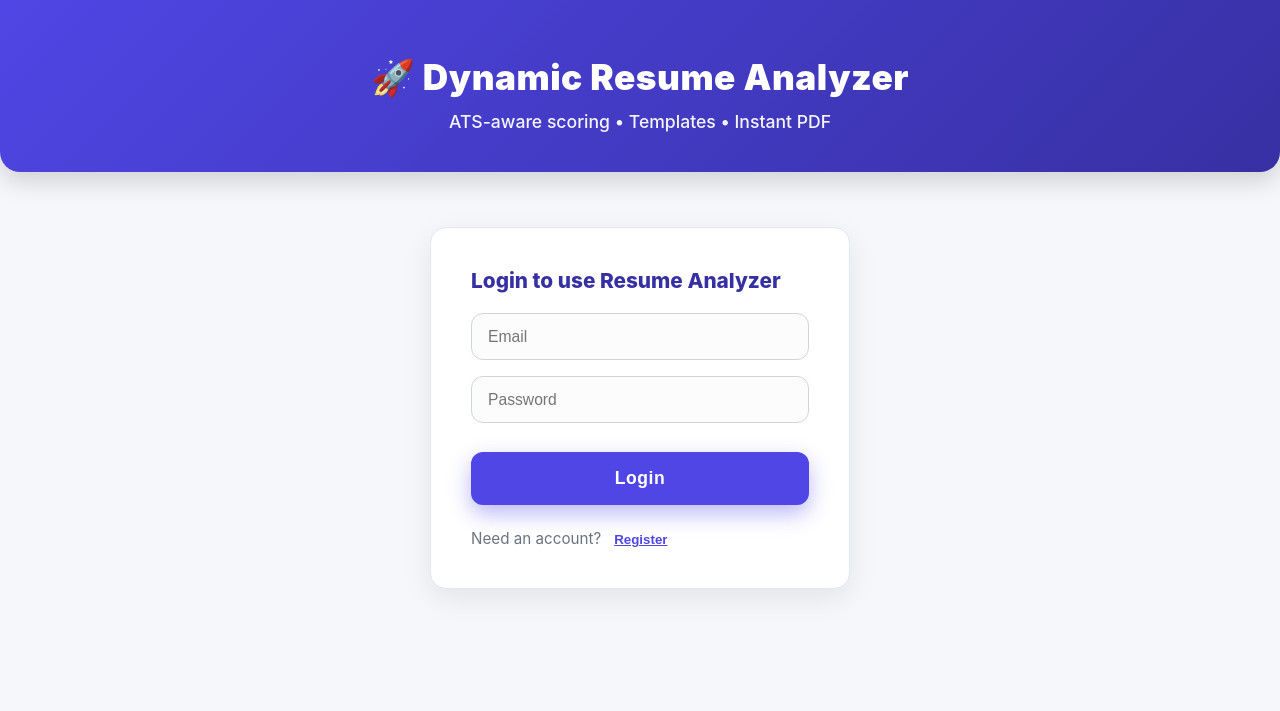
E2E: Authentication Flow › E2E_AUTH_001: Registration Tests › Should validate username minimum length (3 characters)
The image size is (1280, 711).
Expected: the header with class "hero" is shown, [0, 0, 1279, 172]
Expected: the heading with class "title-small" shows "Dynamic Resume Analyzer", [371, 56, 909, 98]
Click the button "Register" at (641, 540), box [614, 532, 667, 547]
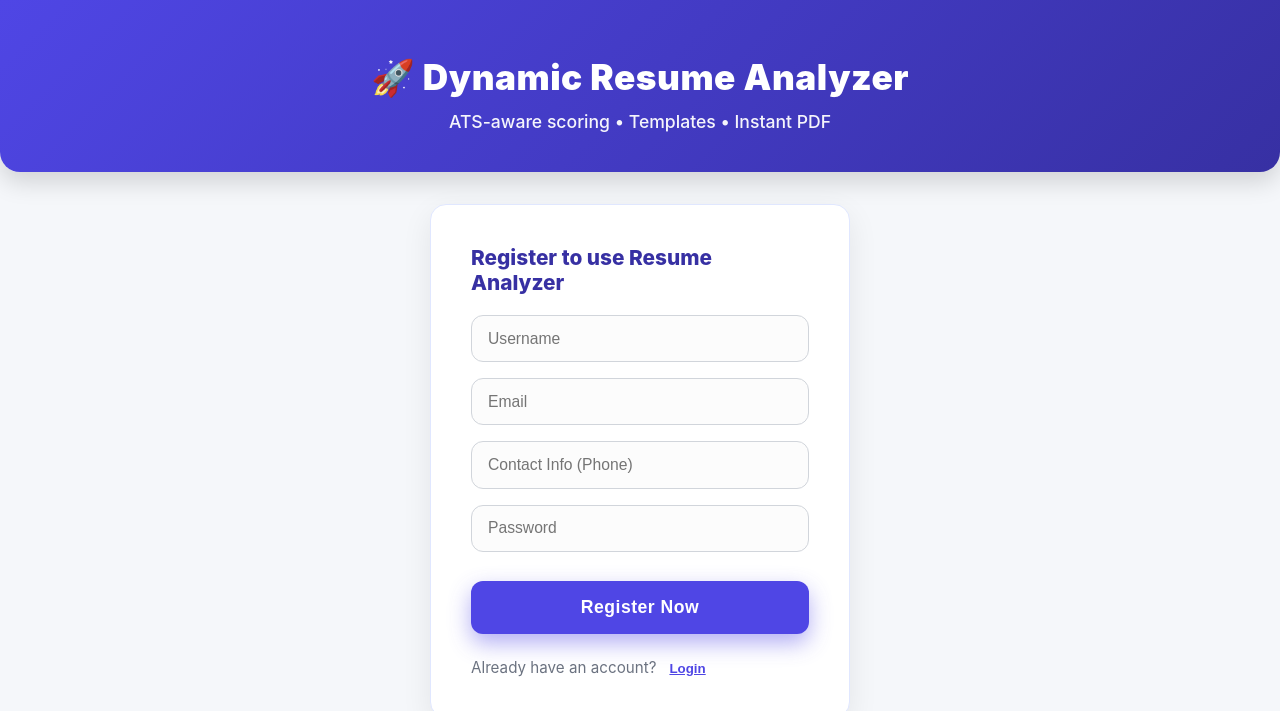
Type "ab" into the field with placeholder "Username" at (640, 339), box [471, 315, 809, 362]
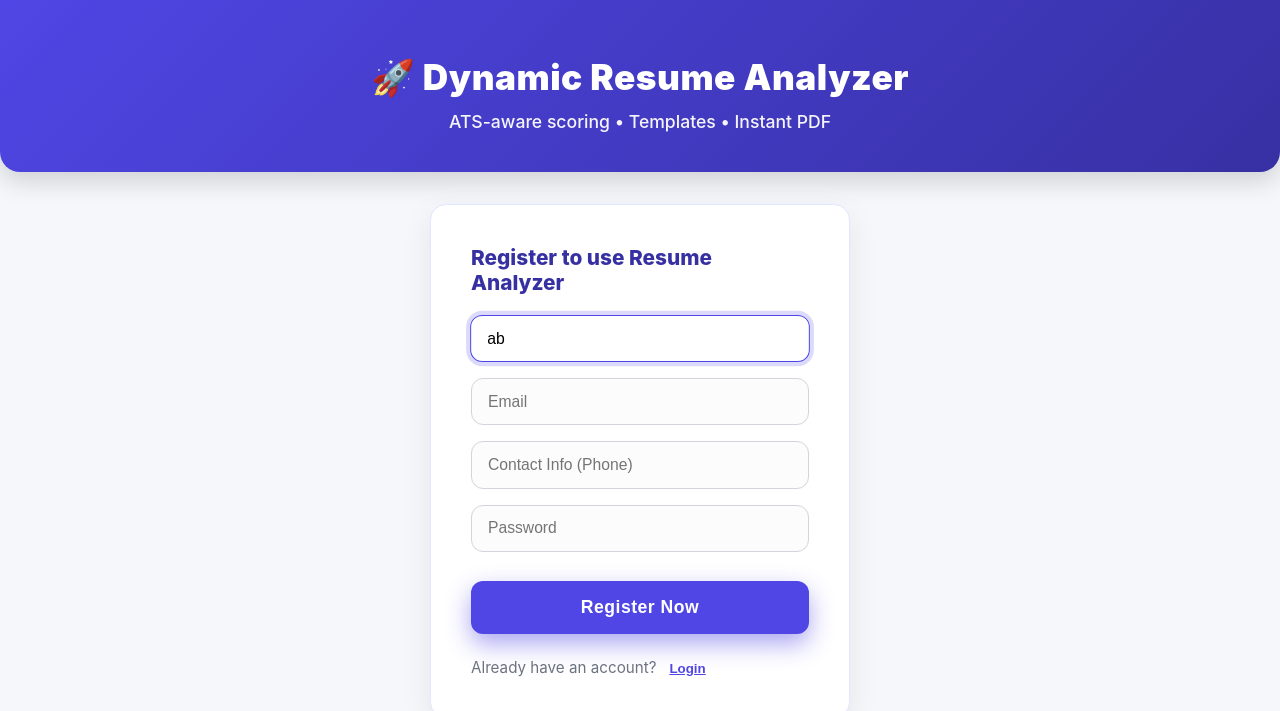
Type "test@example.com" into the field with placeholder "Email" at (640, 402), box [471, 378, 809, 425]
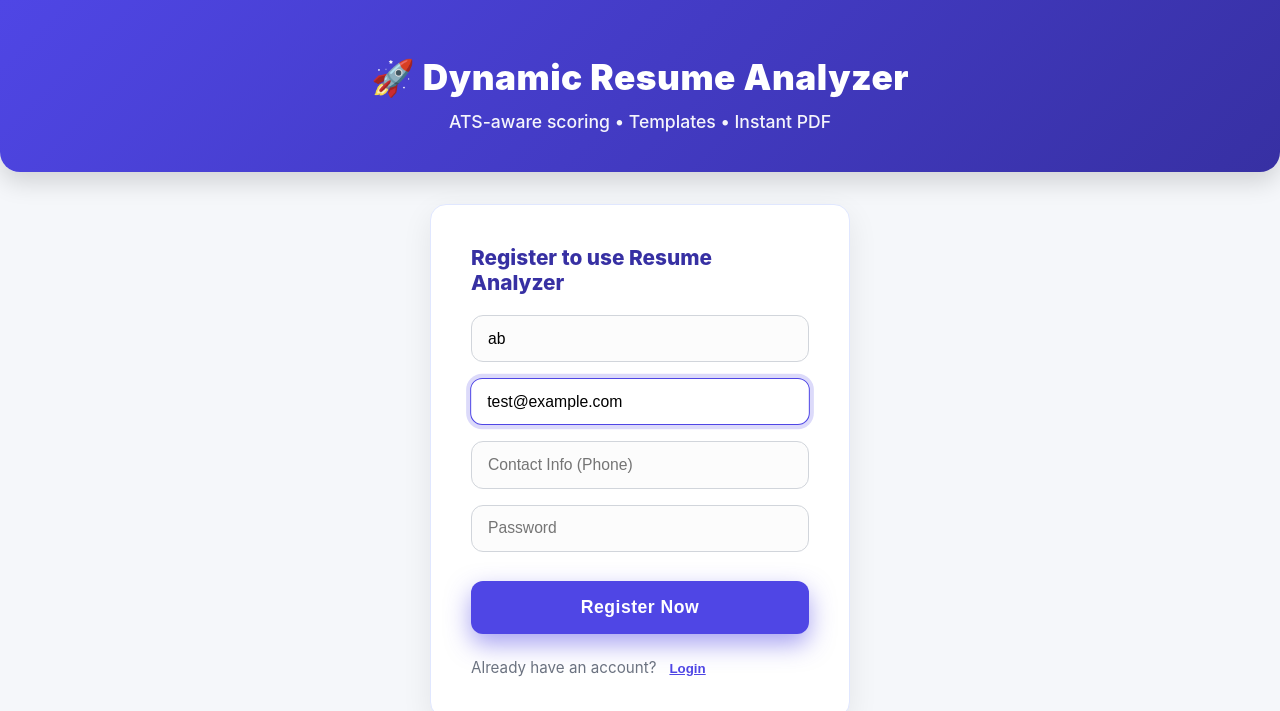
Type "5551234567" into the field with placeholder "Contact Info (Phone)" at (640, 465), box [471, 441, 809, 488]
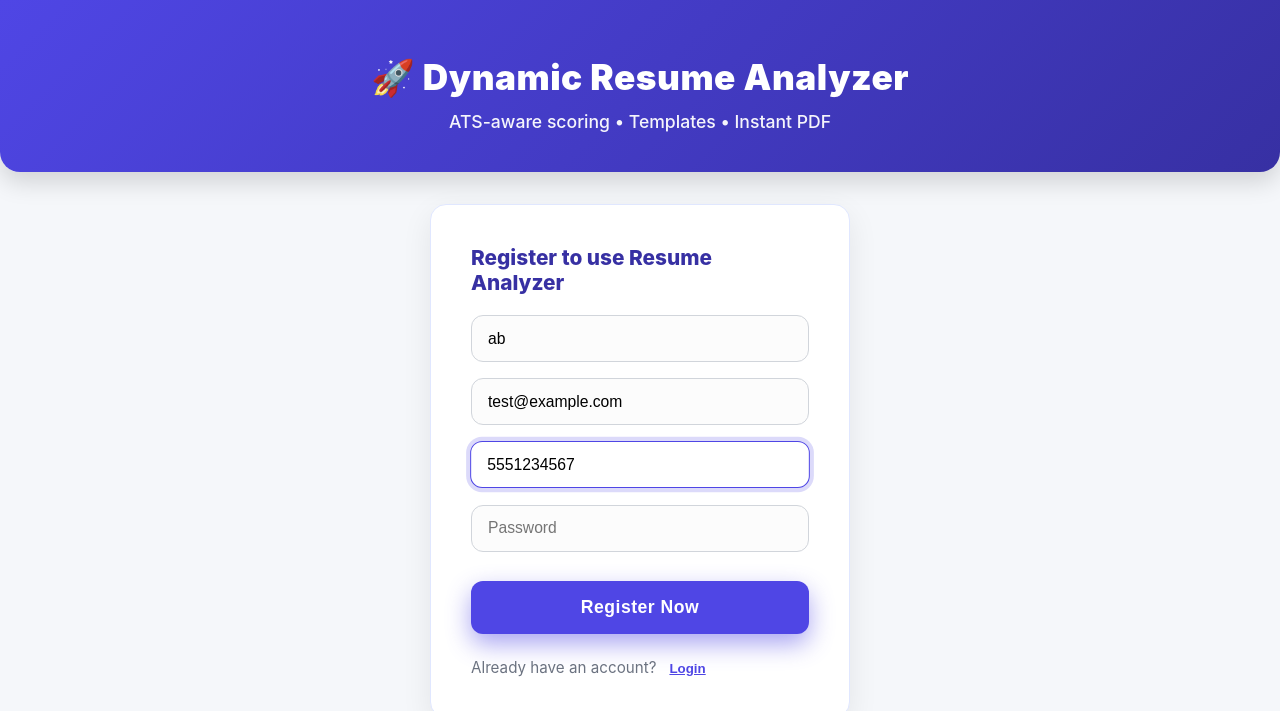
Type "ValidPassword123!" into the password field with placeholder "Password" at (640, 529), box [471, 505, 809, 552]
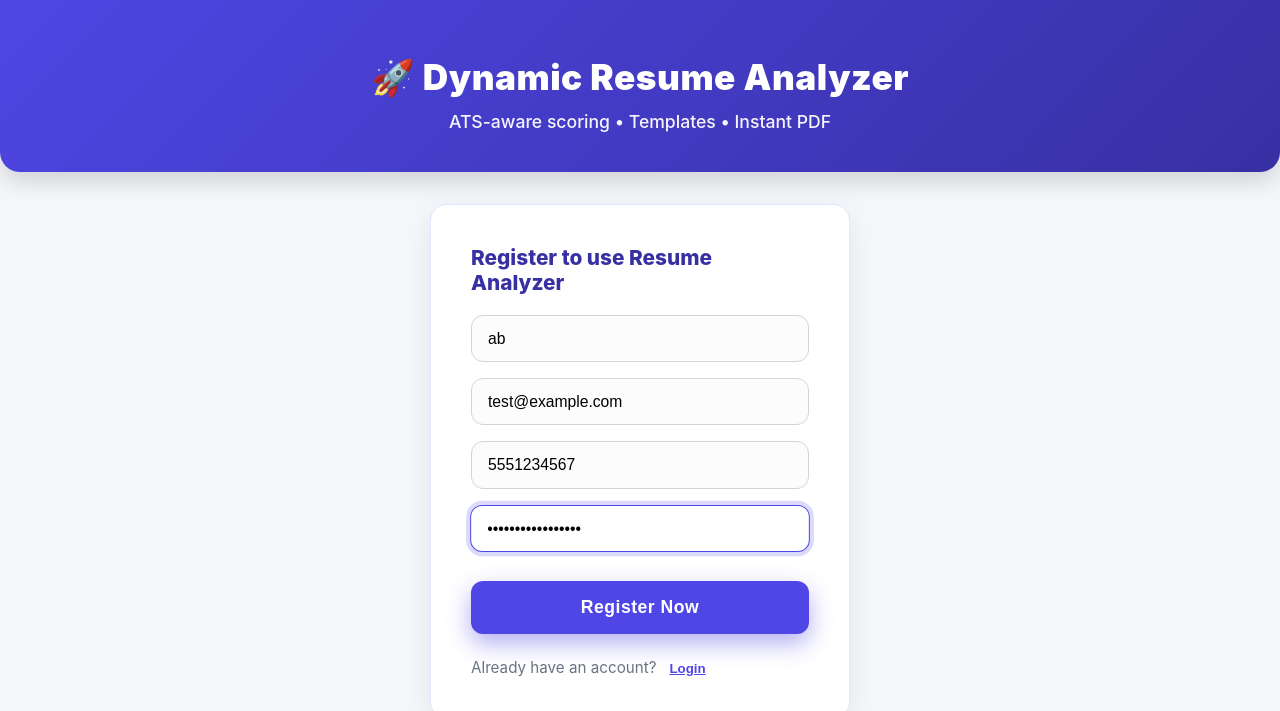
Click the submit button at (640, 608), box [471, 581, 809, 634]
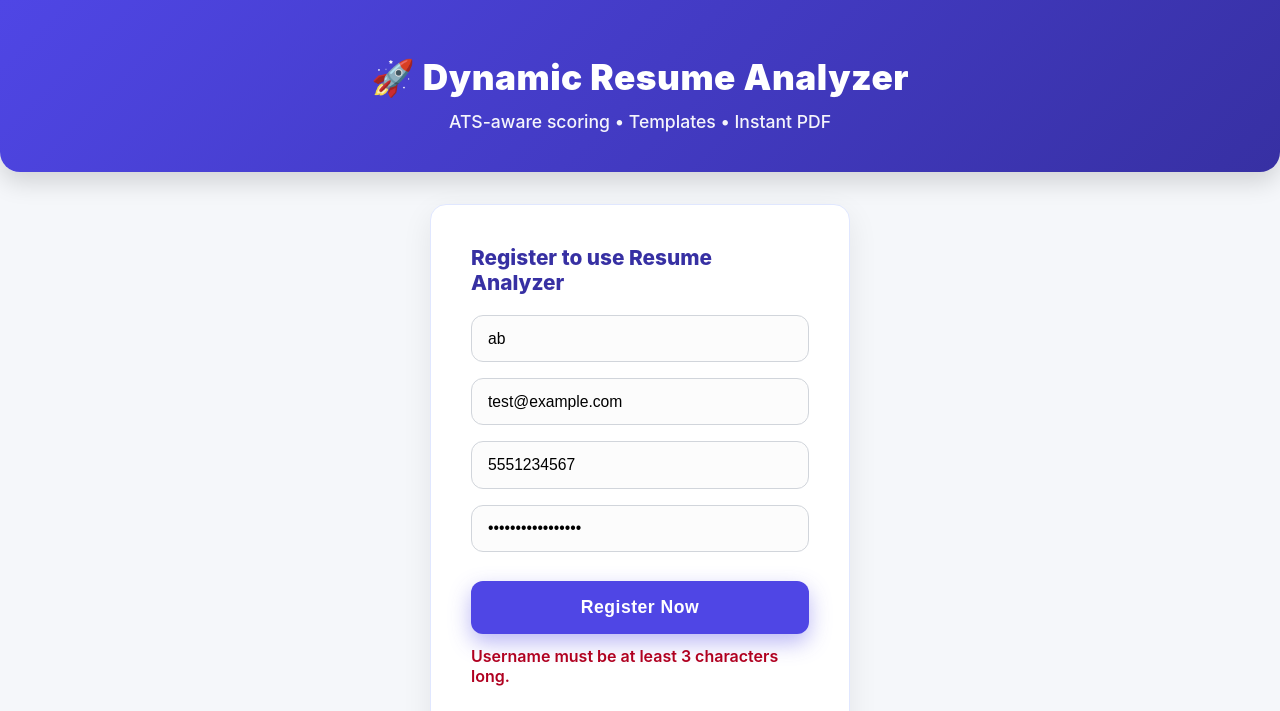
Expected: the text with class "error" shows "Username must be at least 3 characters", [471, 646, 778, 686]
